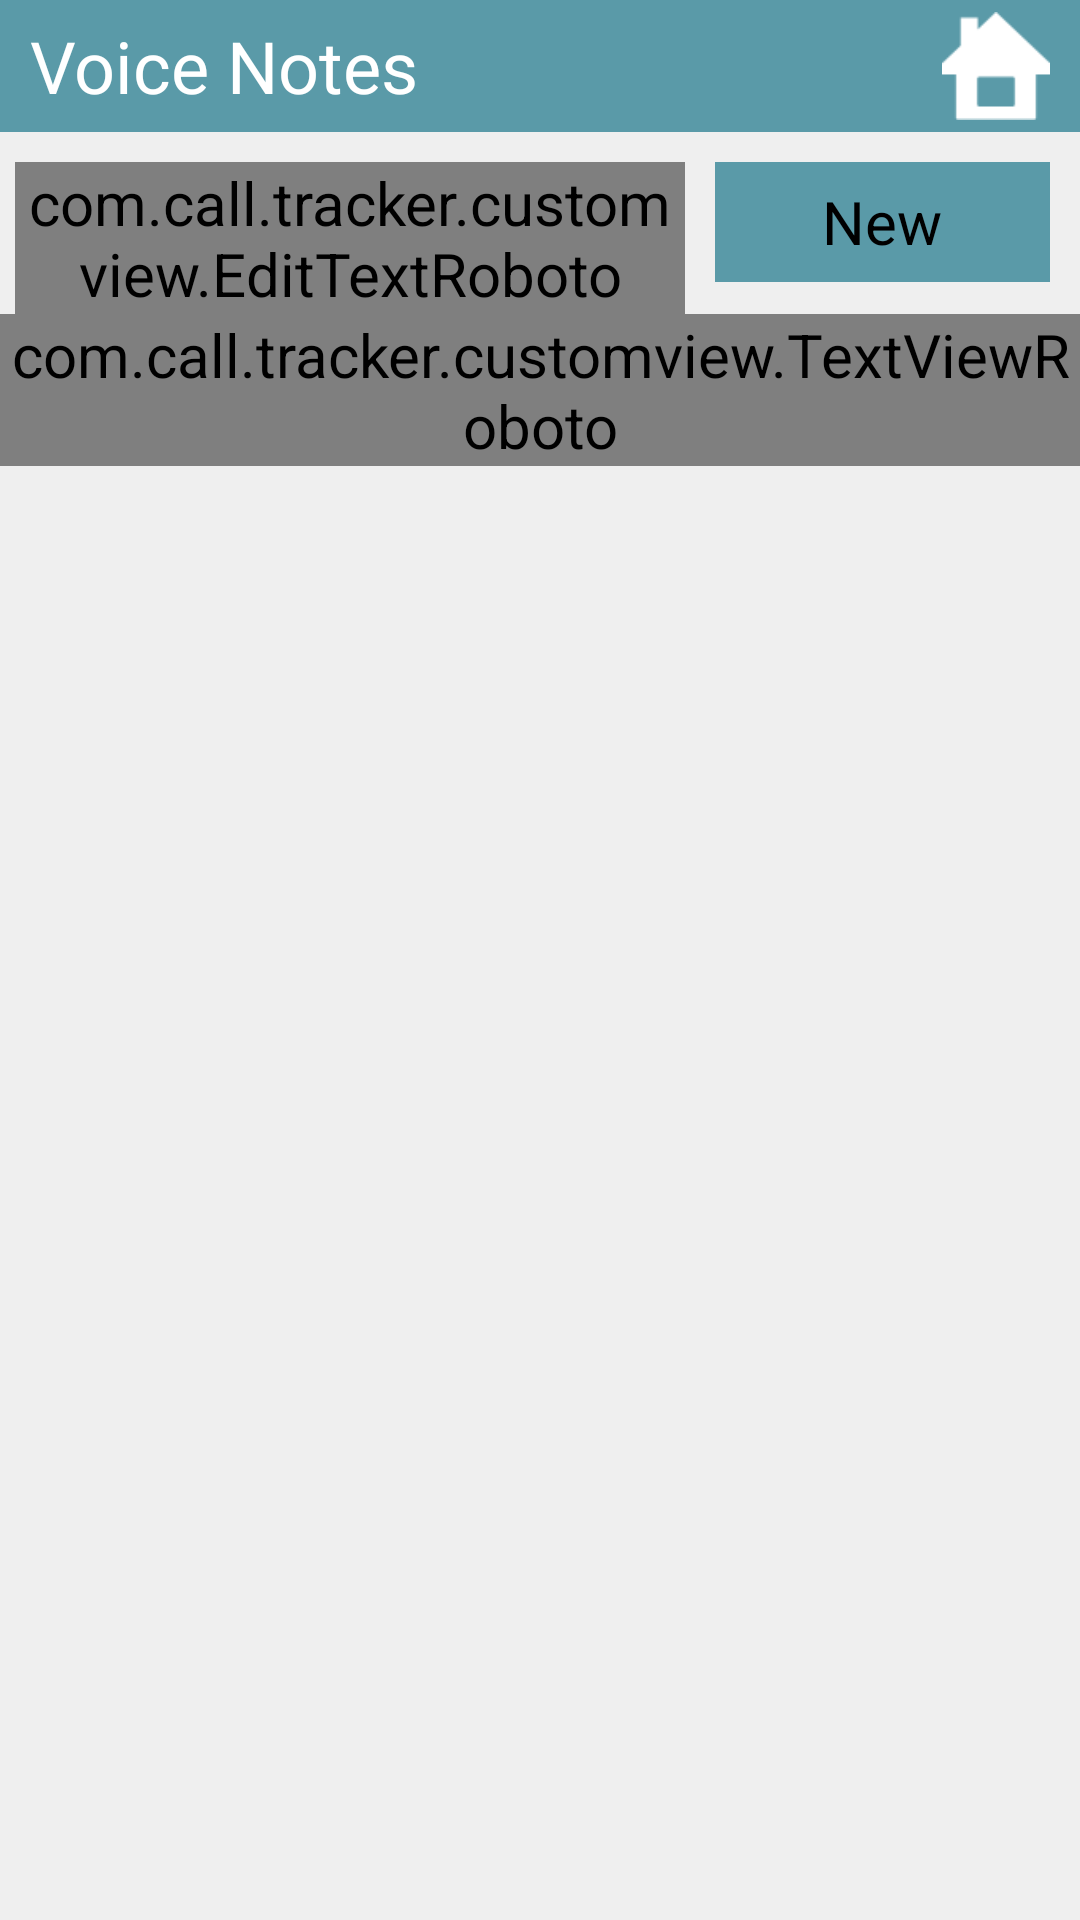

Named icons in this screenshot (1080w x 1920h) and their bounding boxes, (x1, y1, x2, y2):
home: (942, 12, 1050, 120)
